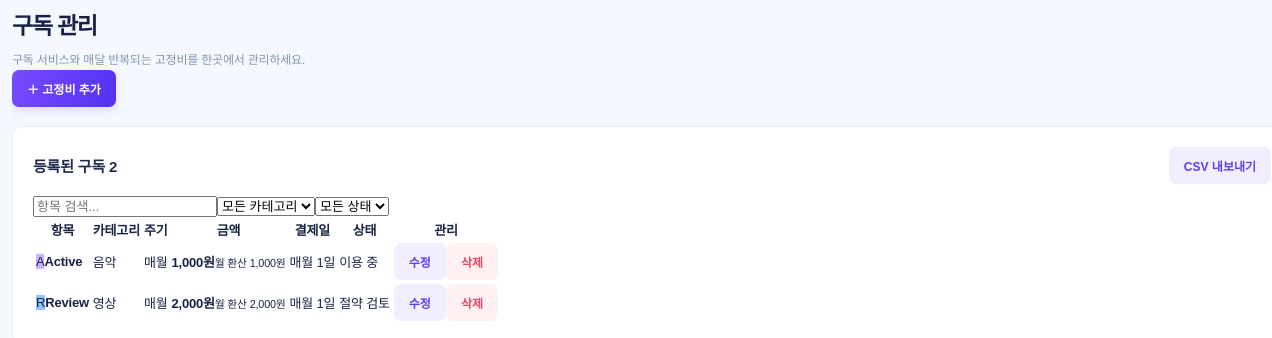
Test case: status filter isolates review rows while the database records remain intact
Check: the text "Active" is shown, box left=44, top=254, right=82, bottom=269
Select "절약 검토" in the dropdown named "구독 상태 필터". click: (352, 207)
box: left=315, top=197, right=389, bottom=216
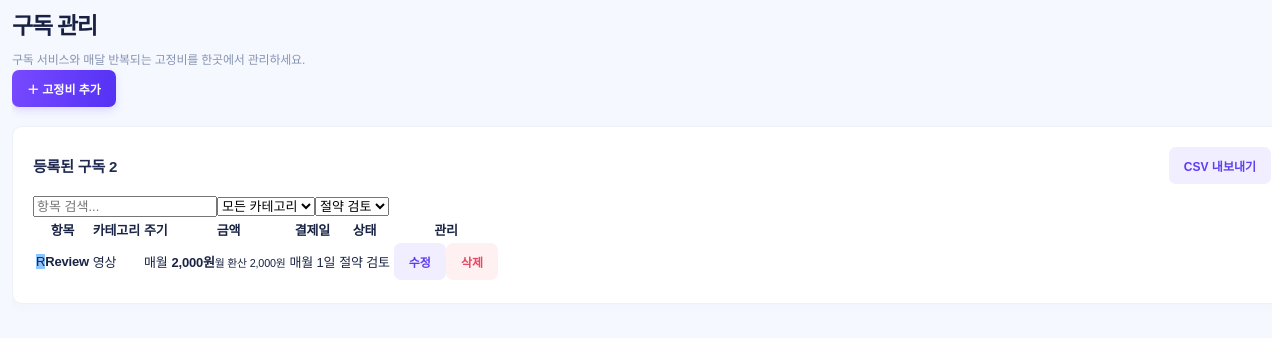
Check: the text "Review" is shown, box left=45, top=254, right=89, bottom=269
Check: the text "Active" is gone
